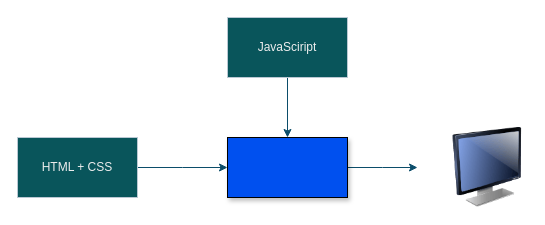
Image size: 545x225. Some labels were removed from this diagram. Here are the shapes that lost their labels. From the top down, the centre of each, then its label:
At point (288, 168): "DOM (document)".
At point (487, 167): "Display".
